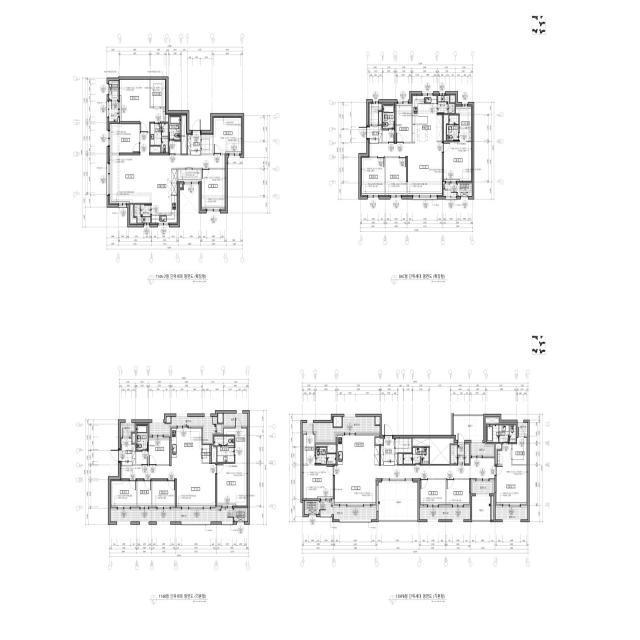space_balconi: (149, 417, 222, 445), (302, 417, 380, 441), (111, 508, 233, 522), (378, 482, 418, 520), (320, 502, 377, 520), (454, 417, 483, 440), (419, 508, 470, 520), (472, 496, 490, 520), (496, 507, 528, 520), (451, 444, 469, 464), (224, 413, 247, 427), (134, 205, 151, 223), (438, 96, 455, 113), (471, 443, 493, 455), (473, 481, 493, 494), (121, 422, 135, 437), (109, 101, 118, 122), (444, 184, 457, 196), (518, 422, 528, 435)
space_bedroom: (120, 80, 165, 132), (496, 444, 527, 504), (217, 464, 247, 506), (444, 142, 471, 181), (214, 117, 242, 153), (303, 466, 333, 498), (202, 170, 226, 209), (362, 158, 385, 195), (110, 124, 139, 153), (386, 158, 406, 195), (111, 481, 136, 507), (420, 480, 445, 505), (152, 481, 175, 507), (446, 480, 469, 505), (149, 437, 169, 464)
space_dressroom: (223, 428, 247, 464), (150, 80, 165, 107), (512, 438, 527, 464), (303, 435, 315, 465), (456, 107, 471, 127)
space_front: (381, 436, 398, 465), (121, 439, 135, 466), (188, 133, 201, 155), (370, 126, 382, 143)
space_kitchen: (412, 96, 442, 142), (152, 169, 177, 223), (337, 435, 379, 465), (171, 428, 202, 465)
space_living_room: (110, 133, 226, 203), (335, 458, 495, 504), (121, 464, 215, 507), (370, 142, 442, 195)
space_other: (413, 439, 453, 464), (396, 104, 411, 142), (137, 481, 151, 507), (178, 169, 201, 181), (370, 104, 382, 125), (395, 439, 412, 453), (202, 134, 213, 153), (316, 443, 336, 453), (182, 116, 187, 154), (169, 141, 181, 154), (136, 452, 148, 464), (460, 128, 471, 141), (383, 130, 394, 142), (130, 205, 136, 223), (203, 445, 209, 463), (444, 115, 448, 141), (496, 444, 501, 464), (334, 417, 342, 427), (486, 418, 499, 424), (491, 496, 494, 520), (212, 445, 216, 462), (218, 414, 223, 423), (376, 438, 383, 444), (399, 454, 403, 464), (379, 112, 382, 124), (450, 96, 455, 102), (376, 417, 380, 424), (132, 434, 135, 443), (166, 417, 170, 423), (166, 114, 168, 122), (180, 184, 182, 187)
space_outdoor_room: (234, 508, 247, 522), (458, 183, 472, 196), (305, 501, 319, 514), (109, 81, 118, 100)
space_toilet: (150, 124, 168, 153), (214, 436, 234, 462), (487, 425, 516, 442), (404, 448, 429, 464), (316, 448, 336, 464), (169, 116, 181, 141), (136, 425, 148, 450), (447, 115, 458, 141), (383, 105, 394, 129)
